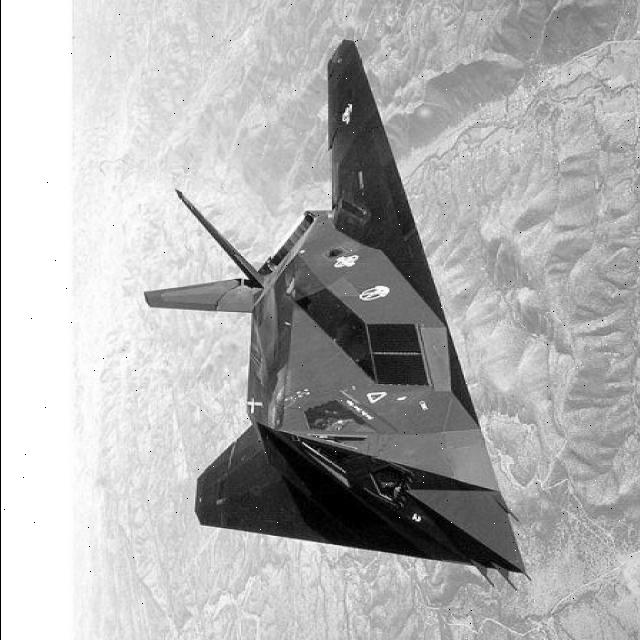F117: (127, 1, 559, 604)
